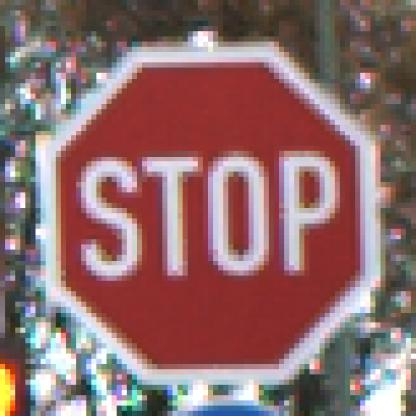stop: (12, 46, 398, 390)
